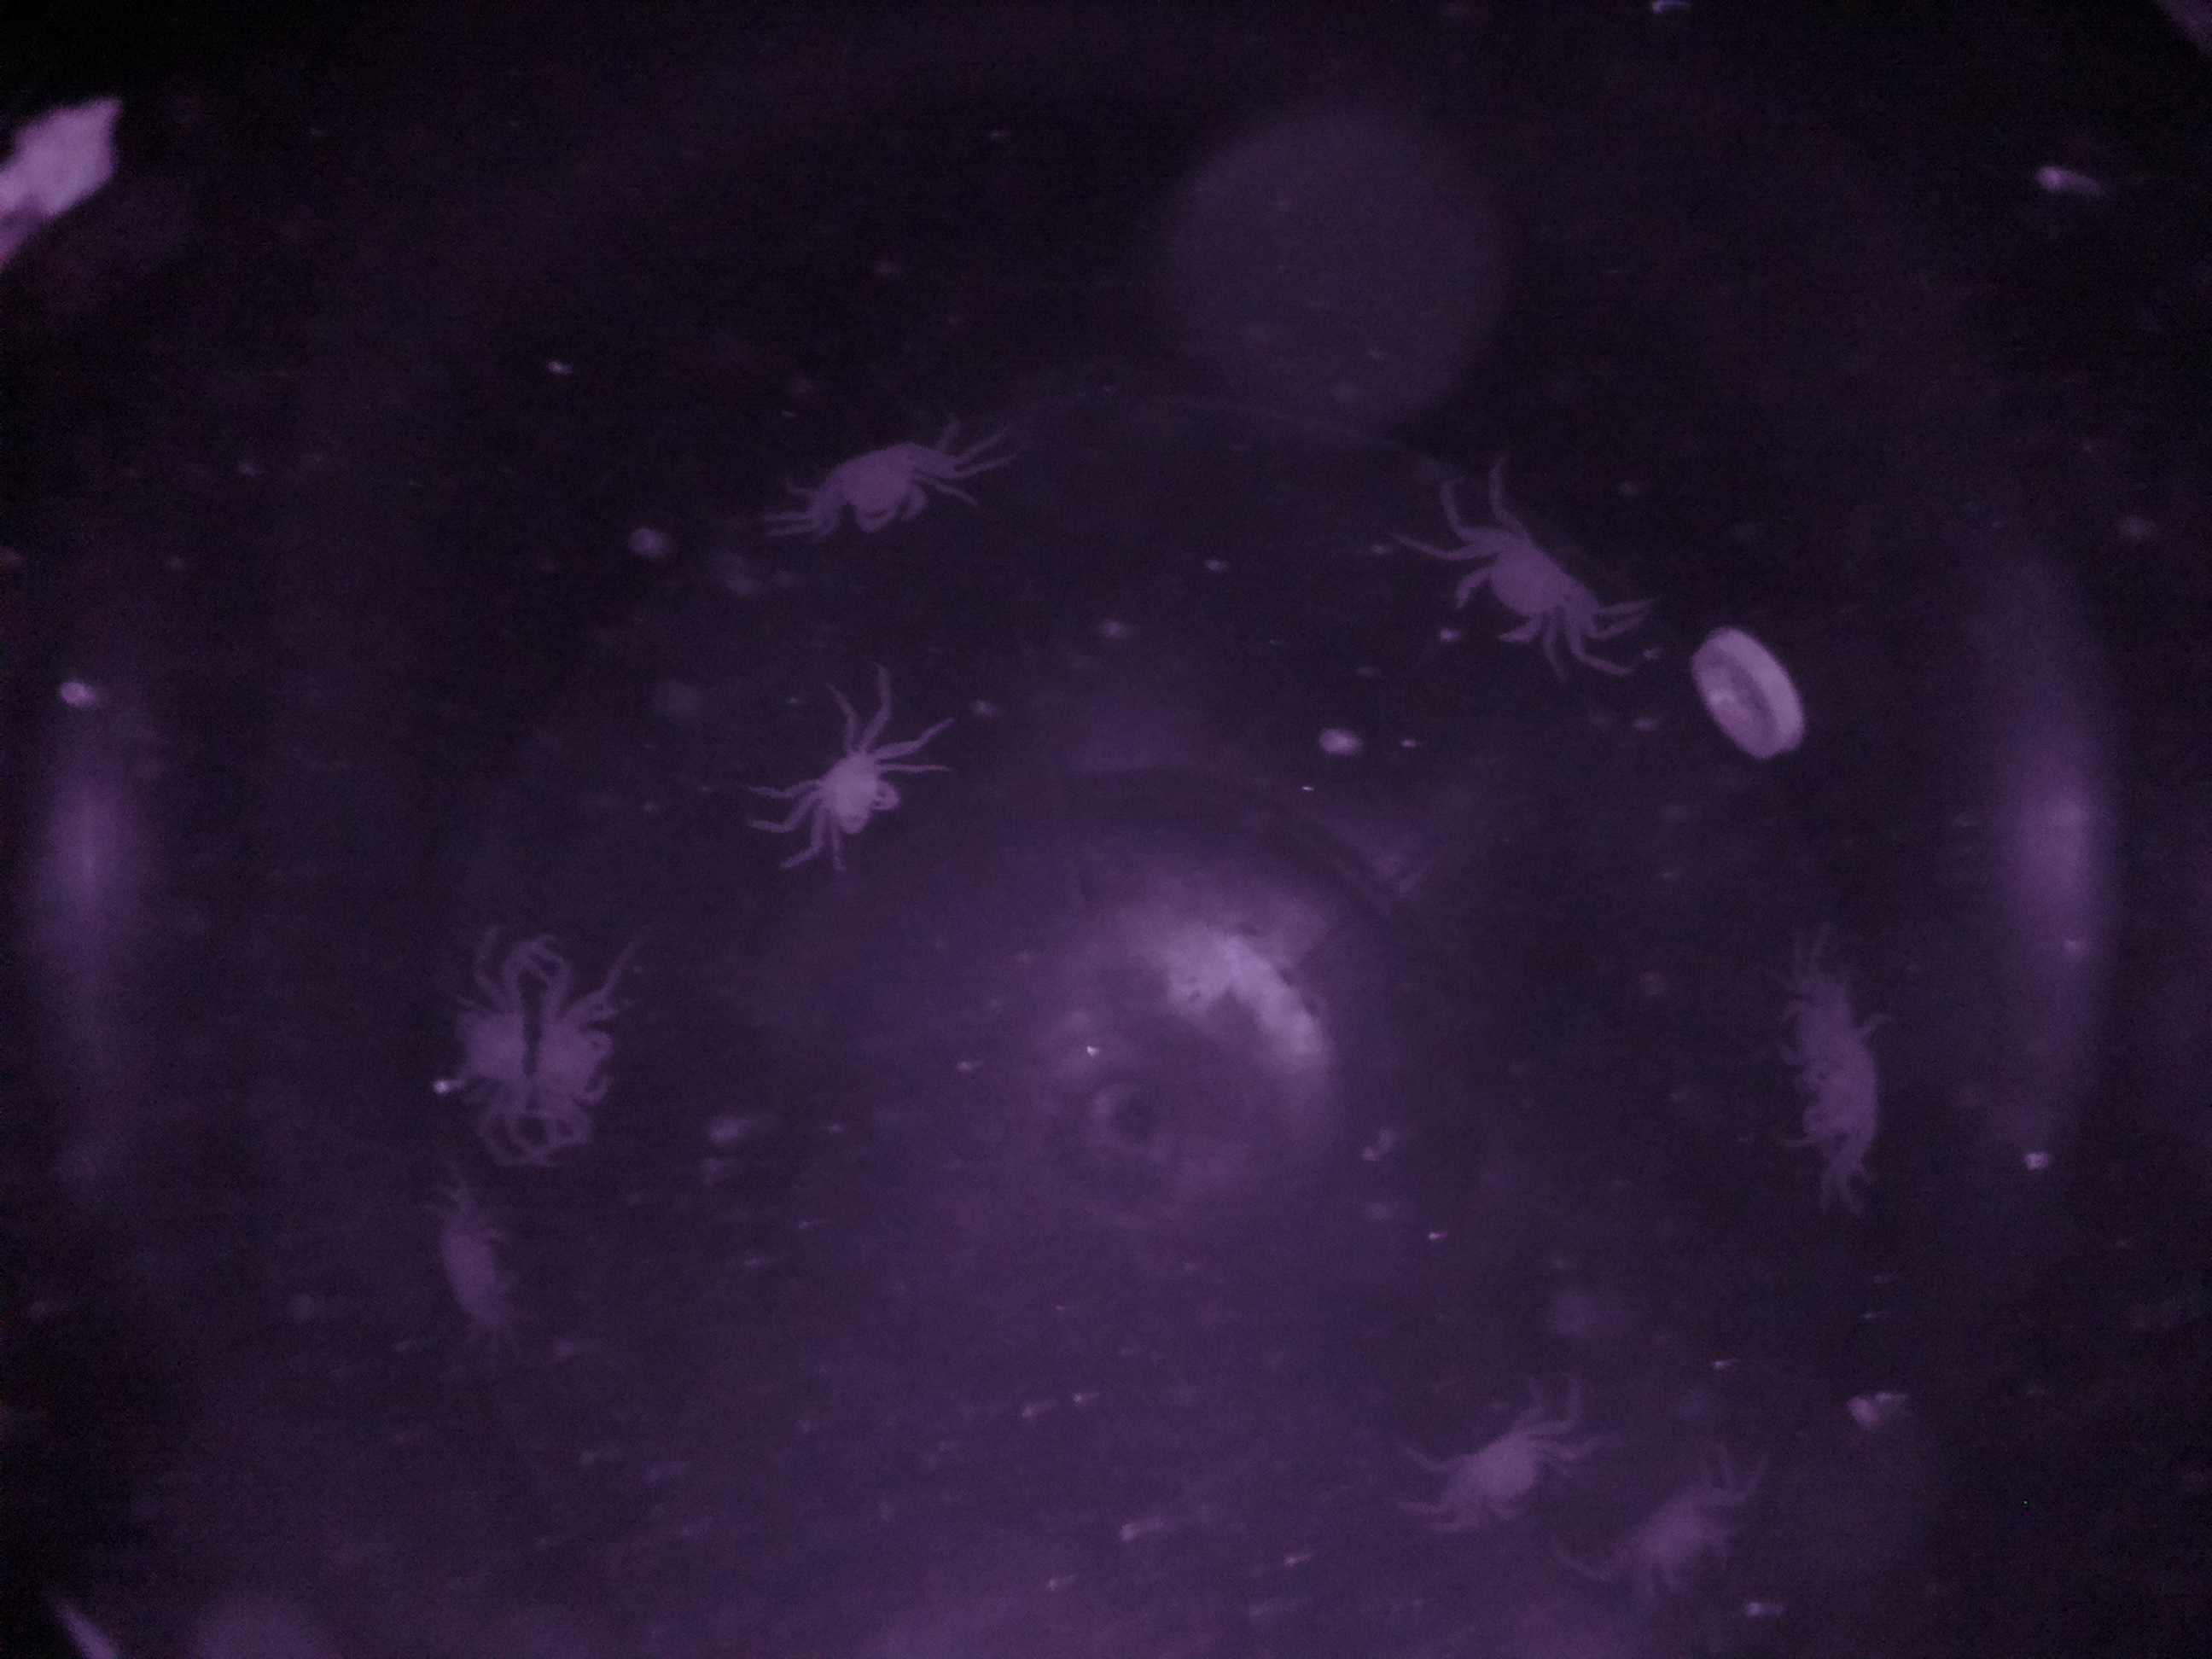Crab: (1430, 481, 1623, 673), (792, 408, 963, 575), (773, 714, 927, 871), (434, 945, 535, 1164), (536, 951, 634, 1166)
